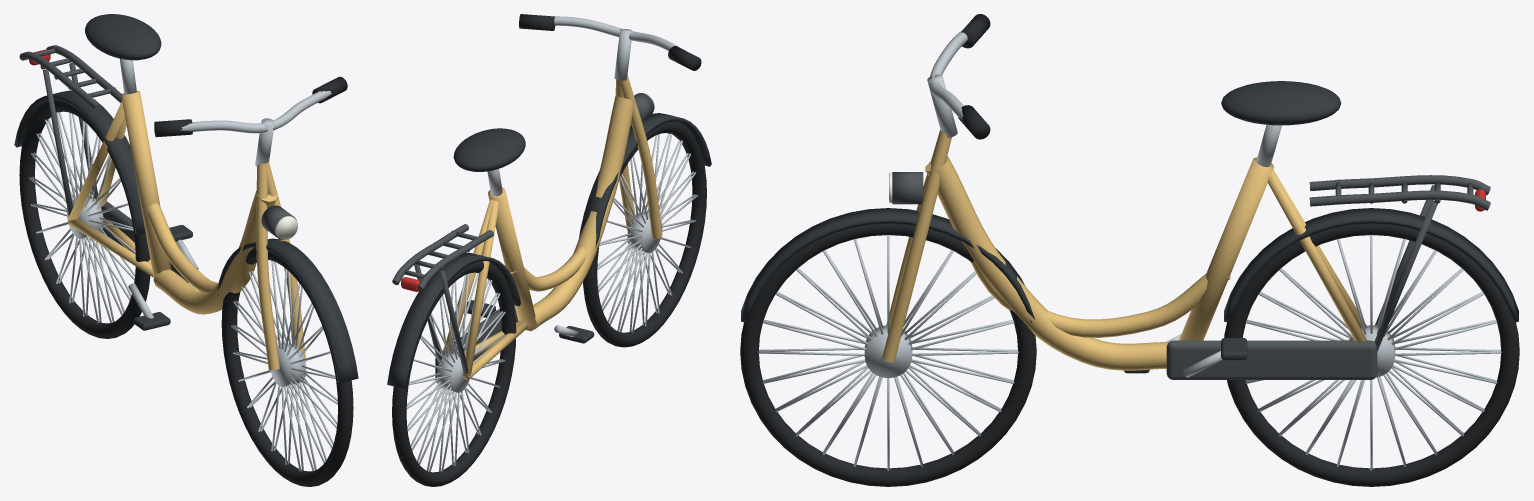
Rendered from Fahrrad.glb.
3 renders of one model, left to right at view 1: azimuth 30°, elevation 25°; view 2: azimuth 150°, elevation 25°; view 3: azimuth 270°, elevation 25°, orthographic. The views are drawn at different scales.
Visible parts, largest first — view 1: Fahrrad_Sandgelb, Fahrrad_Kunststoff anthrazit, Rad_Vorn_Satin-Aluminium, Rad_Hinten_Satin-Aluminium, Rad_Hinten_Reifen, Rad_Vorn_Reifen, Fahrrad_Pulverbeschichteter Stahl, Fahrrad_Satin-Aluminium, Fahrrad_Reifengummi, Frontleuchte_Glas; view 2: Fahrrad_Sandgelb, Fahrrad_Kunststoff anthrazit, Rad_Vorn_Satin-Aluminium, Rad_Hinten_Satin-Aluminium, Rad_Hinten_Reifen, Rad_Vorn_Reifen, Fahrrad_Pulverbeschichteter Stahl, Fahrrad_Satin-Aluminium, Fahrrad_Reifengummi; view 3: Fahrrad_Sandgelb, Fahrrad_Kunststoff anthrazit, Fahrrad_Pulverbeschichteter Stahl, Rad_Vorn_Satin-Aluminium, Rad_Hinten_Reifen, Rad_Vorn_Reifen, Rad_Hinten_Satin-Aluminium, Fahrrad_Satin-Aluminium, Fahrrad_Reifengummi.
Boxes of the visible parts, x1,y1,x2,y2 form: Fahrrad_Sandgelb: (67, 91, 306, 370); Fahrrad_Kunststoff anthrazit: (14, 14, 358, 382); Rad_Vorn_Satin-Aluminium: (231, 260, 337, 471); Rad_Hinten_Satin-Aluminium: (29, 112, 135, 323); Rad_Hinten_Reifen: (19, 99, 150, 338); Rad_Vorn_Reifen: (221, 247, 353, 486); Fahrrad_Pulverbeschichteter Stahl: (19, 45, 296, 282); Fahrrad_Satin-Aluminium: (120, 59, 332, 318); Fahrrad_Reifengummi: (154, 76, 347, 137); Frontleuchte_Glas: (275, 216, 297, 239); Fahrrad_Sandgelb: (442, 75, 662, 379); Fahrrad_Kunststoff anthrazit: (387, 113, 711, 388); Rad_Vorn_Satin-Aluminium: (597, 133, 697, 332); Rad_Hinten_Satin-Aluminium: (406, 273, 505, 472); Rad_Hinten_Reifen: (392, 261, 516, 486); Rad_Vorn_Reifen: (583, 121, 706, 347); Fahrrad_Pulverbeschichteter Stahl: (392, 93, 654, 382); Fahrrad_Satin-Aluminium: (487, 16, 679, 336); Fahrrad_Reifengummi: (519, 14, 701, 70); Fahrrad_Sandgelb: (882, 129, 1366, 370); Fahrrad_Kunststoff anthrazit: (741, 81, 1518, 373); Fahrrad_Pulverbeschichteter Stahl: (892, 172, 1490, 379); Rad_Vorn_Satin-Aluminium: (758, 235, 1018, 470); Rad_Hinten_Reifen: (1224, 223, 1519, 486); Rad_Vorn_Reifen: (740, 223, 1036, 486); Rad_Hinten_Satin-Aluminium: (1245, 235, 1501, 470); Fahrrad_Satin-Aluminium: (927, 30, 1281, 377); Fahrrad_Reifengummi: (958, 14, 990, 139).
Size of the model in its own units: 0.6213 by 1.09 by 1.84.
